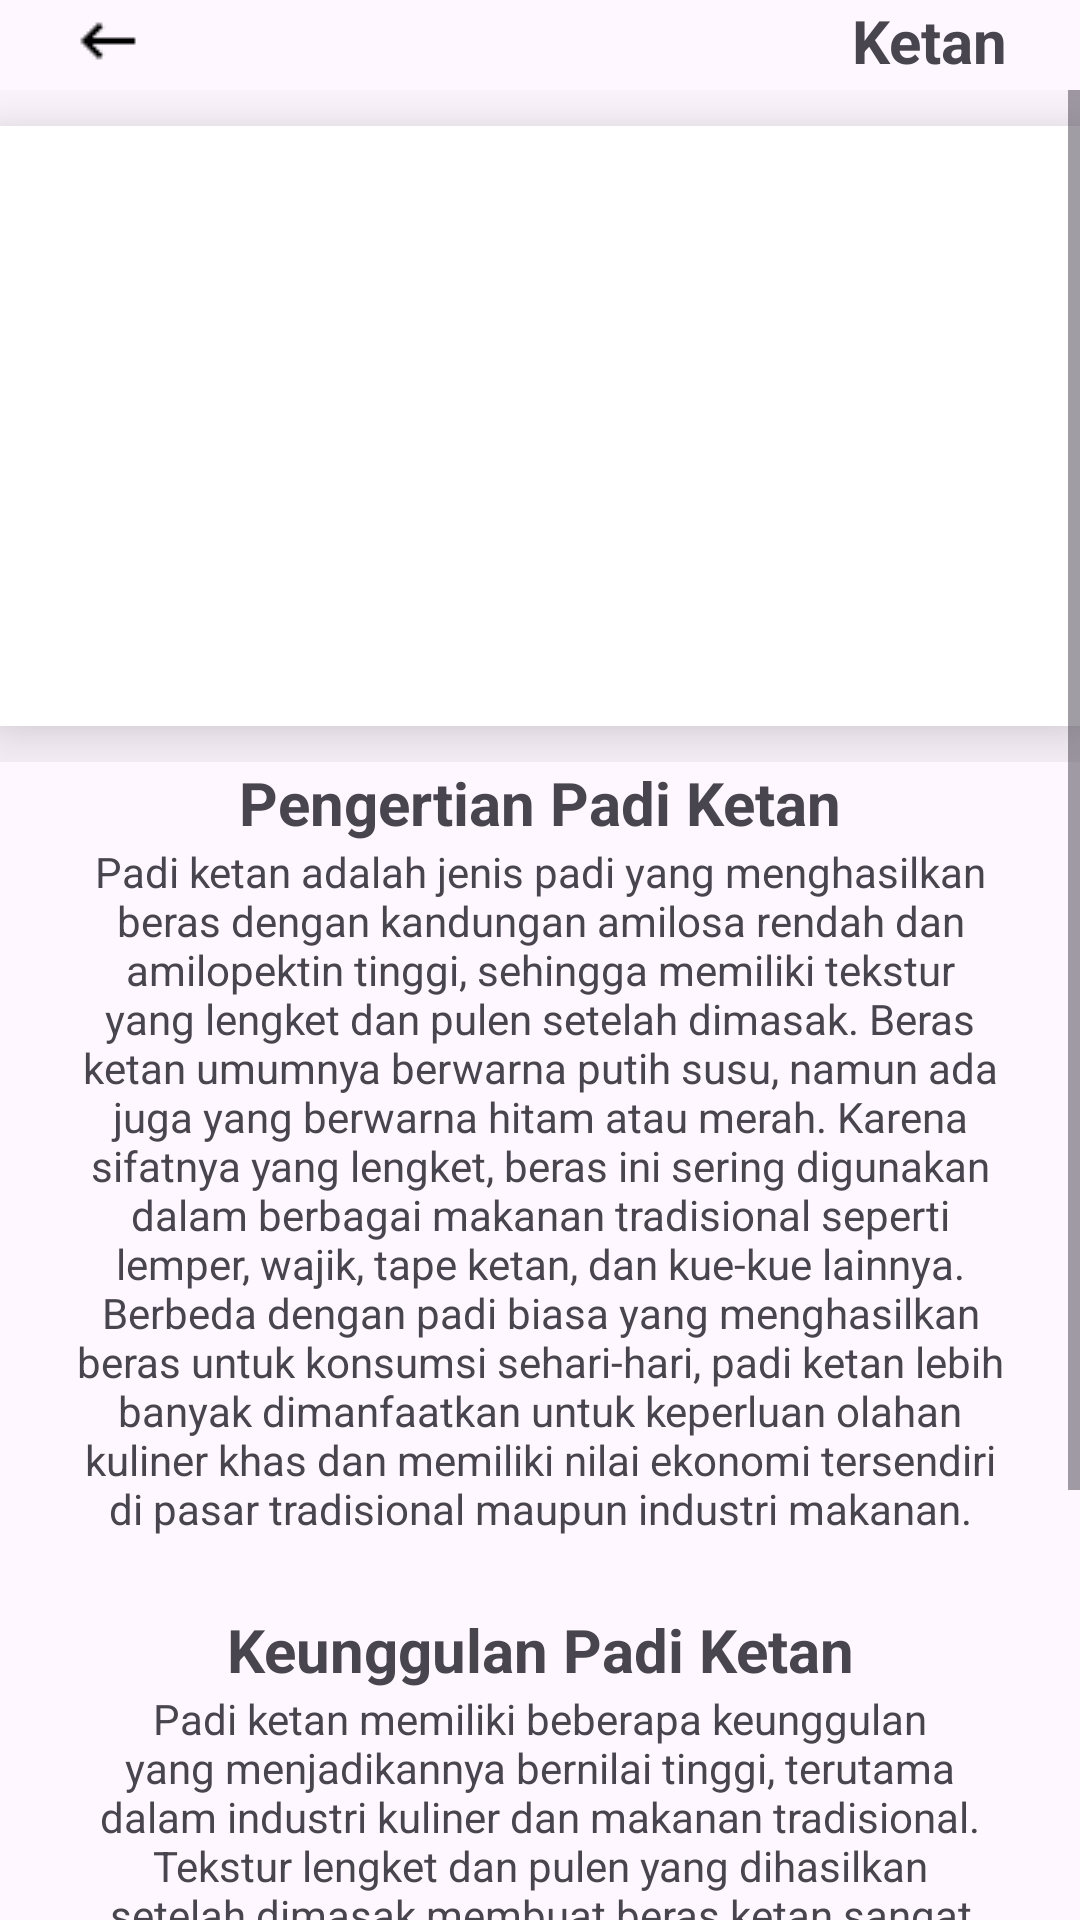

Icons on this 1080x1920 Android screen, each with its box as (x1, y1, x2, y2):
keyboard backspace: (80, 22, 136, 60)
